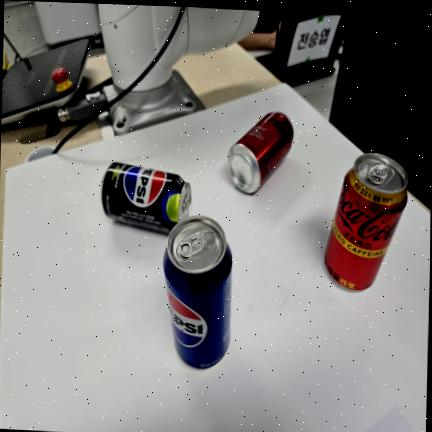can_coke_decaf: (324, 153, 407, 290)
can_coke_zero: (227, 112, 293, 193)
can_pepsi: (163, 216, 232, 368)
can_pepsi_zero: (101, 162, 190, 233)
